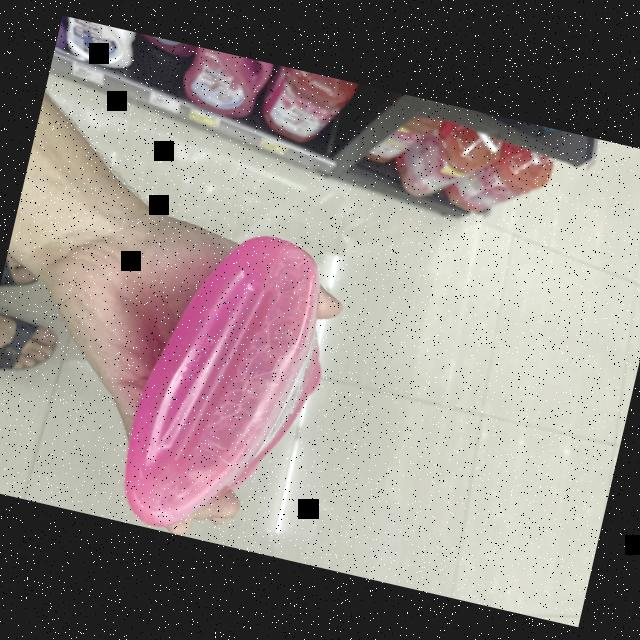chemical_plastic_gallon: (96, 193, 368, 560)
